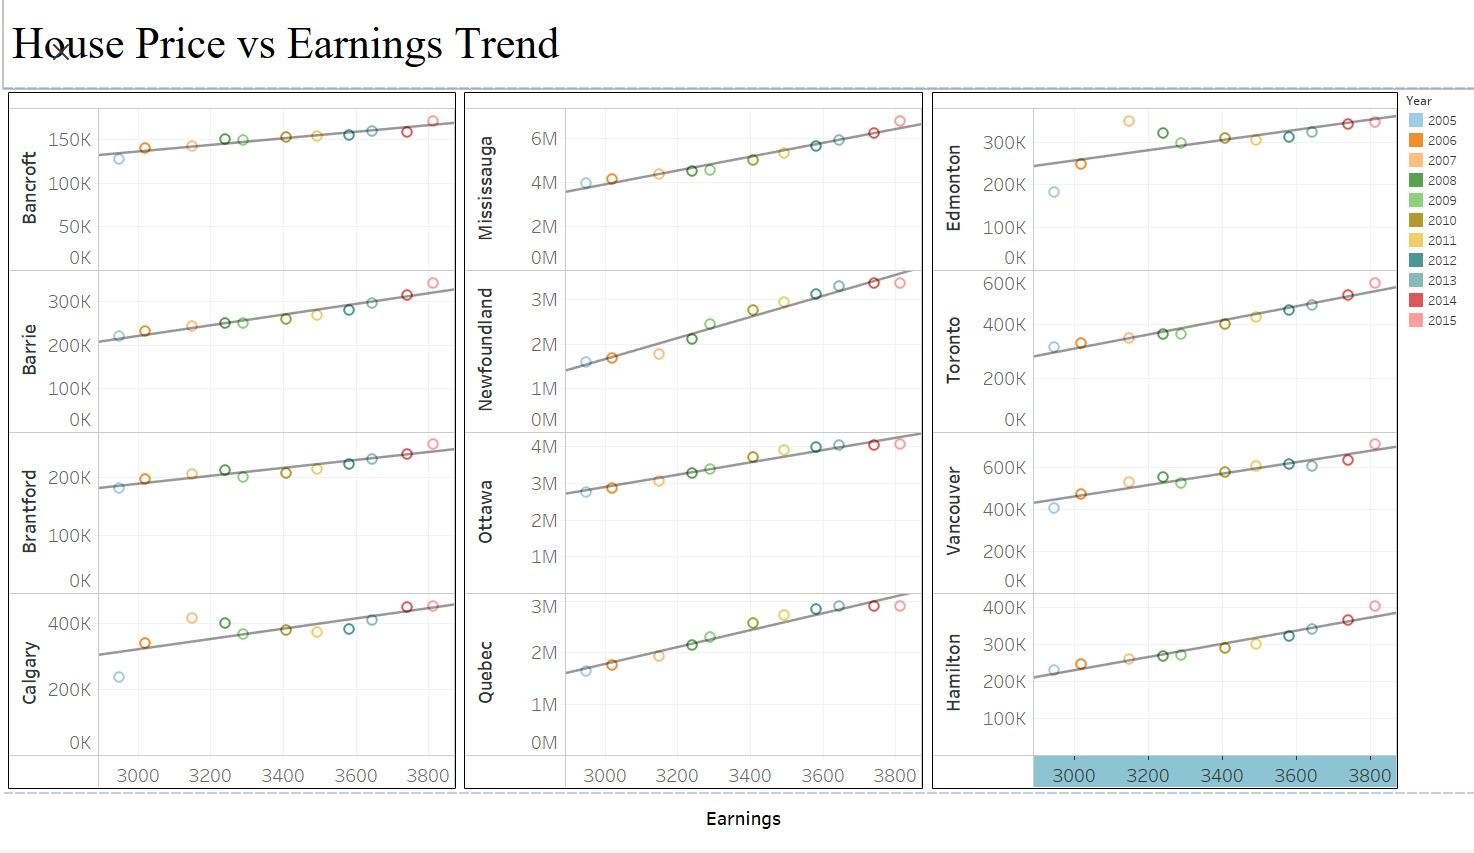

What the dashboard file says about the page in this screenshot:
{"tool":"tableau","page":{"name":"Dashboard 2","canvas":[1000,1000],"units":"permille","ordinal":1},"visuals":[{"type":"text","box":[5.4,9.3,989.3,104.6]},{"type":"dashboard-object","box":[35.3,58.1,16.9,27.9]},{"type":"worksheet","title":"House Price Trend Per Province vs Canada Earnings(1) (2)","mark":"Automatic","rows":["Composite_Benchmark (Bancroft!and!Area)","Composite_Benchmark (Barrie!and!District)","Composite_Benchmark (Brantford!Region)","Composite_Benchmark (Calgary)"],"cols":["Canada (copy)_3275805815043670019"],"box":[5.4,113.9,305.2,819.8]},{"type":"worksheet","title":"House Price Trend Per Province vs Canada Earnings(1) (4)","mark":"Automatic","rows":["Composite_Benchmark (Mississauga)","Composite_Benchmark (Newfoundland!and!Labrador)","Composite_Benchmark (Ottawa)","Composite_Benchmark (Quebec!CMA)"],"cols":["Canada (copy)_3275805815043670019"],"box":[310.6,113.9,312.7,819.8]},{"type":"worksheet","title":"House Price Trend Per Province vs Canada Earnings(1) (3)","mark":"Automatic","rows":["Composite_Benchmark (Edmonton)","Composite_Benchmark (Greater!Toronto)","Composite_Benchmark (Greater!Vancouver)","Composite_Benchmark (Hamilton!Burlington)"],"cols":["Canada (copy)_3275805815043670019"],"box":[623.3,113.9,317.2,819.8]},{"type":"legend","title":"House Price Trend Per Province vs Canada Earnings(1) (4)","param":"[federated.0xnaw9z1u43i8b163kye60kr0hqq].[yr:Date (Saskatoon):ok]","box":[940.5,113.9,54.2,286]},{"type":"text","box":[5.4,933.7,989.3,57]}]}

Visuals, with their boxes on the dashboard's canvas, which has no fixed pixel size, in thousandths of its width and height (x1, y1, x2, y2). These are canvas units, not pixel positions in the 1474x853 screenshot, which may show the page scaled, cropped or inside an application window:
text: box(5, 9, 995, 114)
dashboard-object: box(35, 58, 52, 86)
"House Price Trend Per Province vs Canada Earnings(1) (2)" worksheet: box(5, 114, 311, 934)
"House Price Trend Per Province vs Canada Earnings(1) (4)" worksheet: box(311, 114, 623, 934)
"House Price Trend Per Province vs Canada Earnings(1) (3)" worksheet: box(623, 114, 940, 934)
"House Price Trend Per Province vs Canada Earnings(1) (4)" legend: box(940, 114, 995, 400)
text: box(5, 934, 995, 991)
